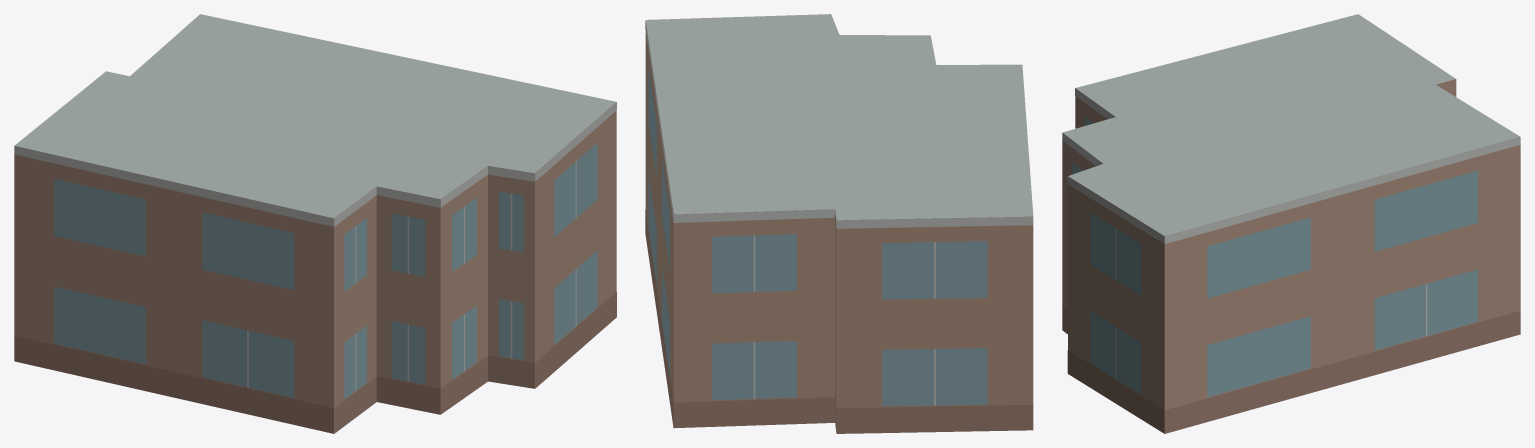
Rendered from survey-upis-32694723.glb.
The picture shows the model from 3 angles, left to right: view 1: azimuth 30°, elevation 25°; view 2: azimuth 150°, elevation 25°; view 3: azimuth 270°, elevation 25°; orthographic projection. The views are drawn at different scales.
Parts seen in each view (by area): view 1: survey-upis-32694723.tmp; view 2: survey-upis-32694723.tmp; view 3: survey-upis-32694723.tmp.
Boxes of the visible parts, left/top/right/bottom form: survey-upis-32694723.tmp: left=14, top=14, right=616, bottom=433; survey-upis-32694723.tmp: left=645, top=14, right=1033, bottom=433; survey-upis-32694723.tmp: left=1062, top=14, right=1520, bottom=433.
Size of the model in its own units: 14.73 by 6.1 by 12.83.
